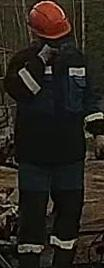gloves: (90, 122, 104, 160), (36, 44, 60, 66)
helmet: (26, 0, 72, 39)
vest: (3, 44, 92, 164)
